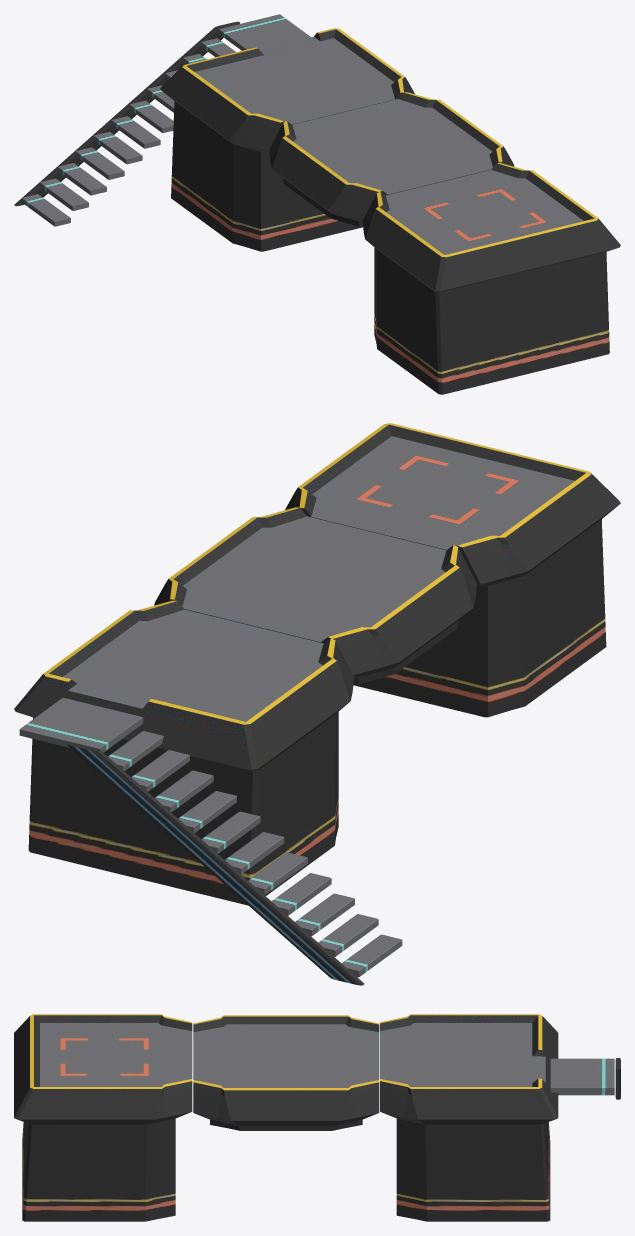
Rendered from Landing Pad.fbx.
3 renders of one model, top to bottom at view 1: azimuth 30°, elevation 25°; view 2: azimuth 150°, elevation 25°; view 3: azimuth 270°, elevation 25°, orthographic. The views are drawn at different scales.
Visible parts, largest first — view 1: LandingPad_Right, Bridge, Stairs; view 2: LandingPad_Right, Bridge, Stairs; view 3: LandingPad_Right, Bridge, Stairs.
Boxes of the visible parts, x1,y1,x2,y2 form: LandingPad_Right: (160, 28, 620, 394); Bridge: (269, 92, 514, 226); Stairs: (14, 14, 310, 226); LandingPad_Right: (14, 423, 620, 905); Bridge: (154, 507, 476, 684); Stairs: (19, 698, 402, 985); LandingPad_Right: (14, 1014, 558, 1221); Bridge: (193, 1015, 379, 1130); Stairs: (550, 1058, 620, 1099).
Size of the model in its own units: 2.74 by 1.2 by 4.91.
